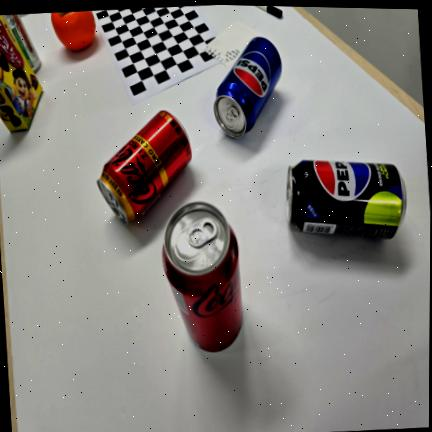can_coke_decaf: (97, 110, 191, 223)
can_coke_zero: (162, 202, 242, 351)
can_pepsi: (214, 37, 281, 137)
can_pepsi_zero: (286, 159, 406, 239)
